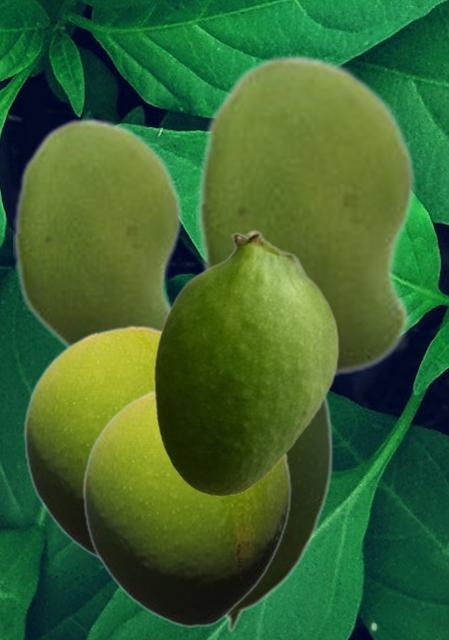green_mango: (196, 53, 416, 382), (82, 387, 291, 627), (153, 229, 338, 495), (13, 117, 182, 347), (23, 325, 160, 560), (221, 394, 332, 632)
